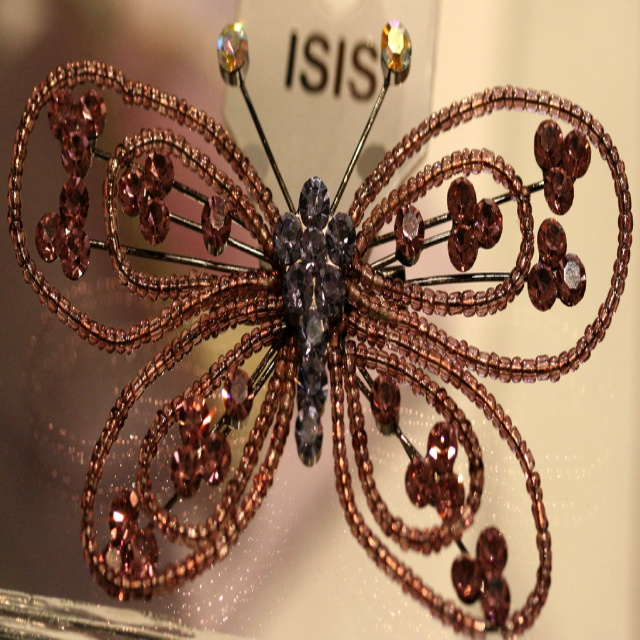Butterfly: (7, 20, 634, 640)
